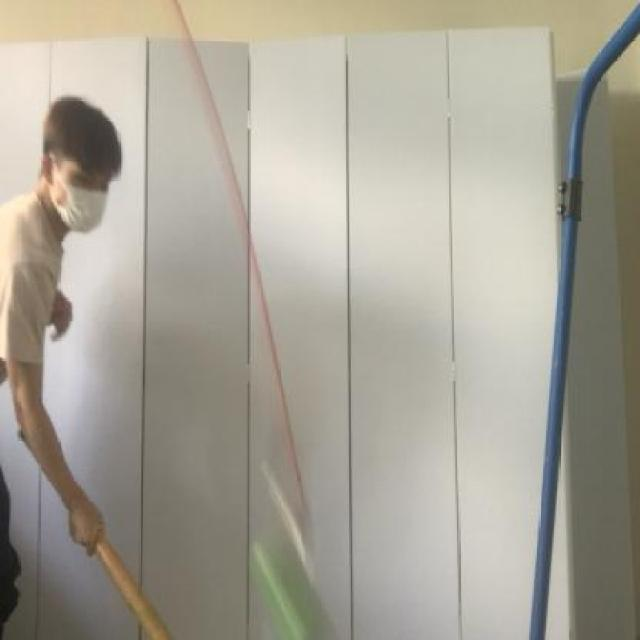baseball: (239, 518, 338, 640)
